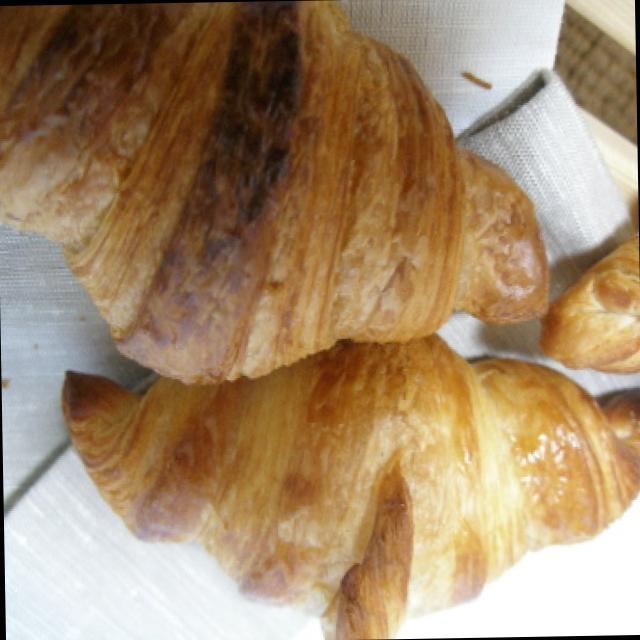Croissant: (0, 0, 559, 396)
